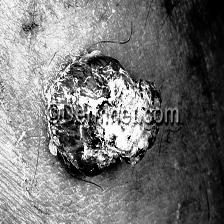Toxin: (48, 48, 162, 104), (45, 124, 157, 172)
